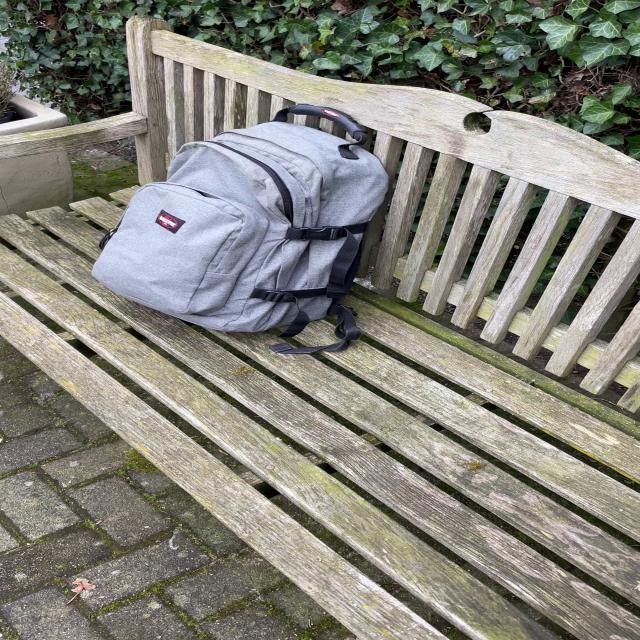backpack: (80, 100, 398, 338)
